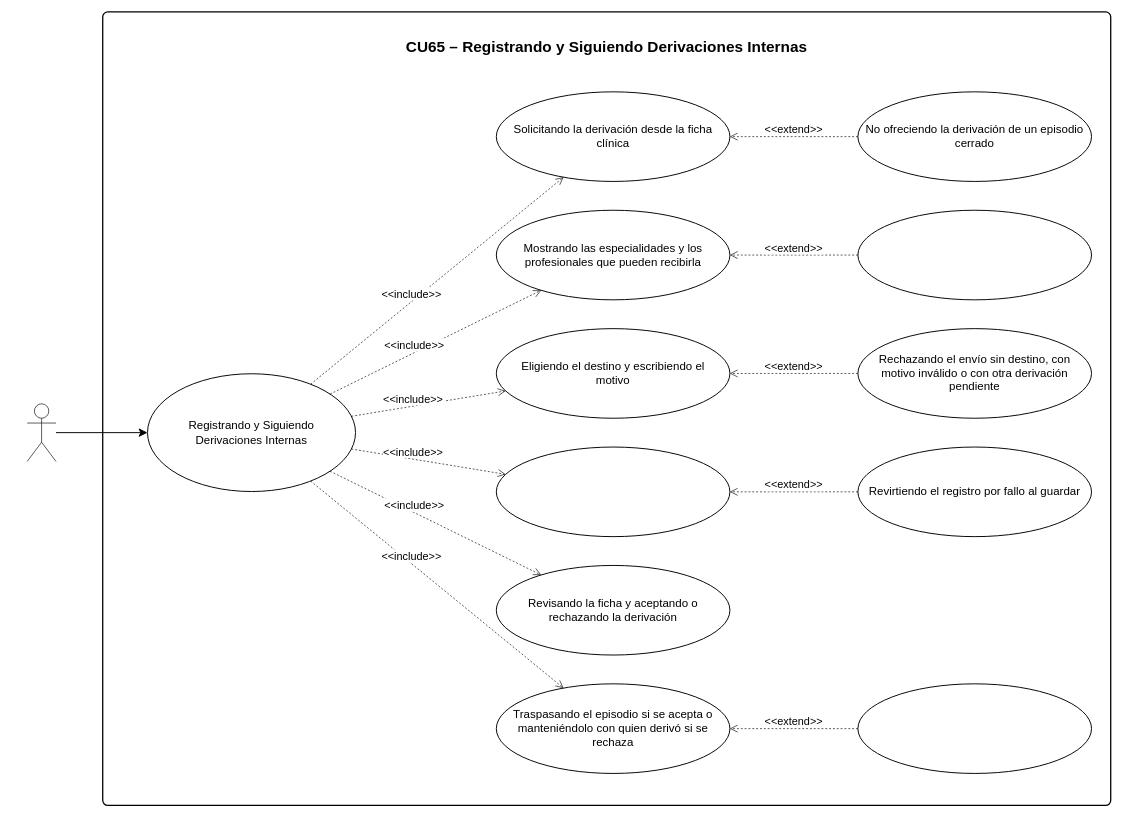
Image size: 1123x817. Some labels were removed from this diagram. The shapes that lost their labels are listed below. From the top down, each one's centre as x and y in pixels, then its label:
point 974,254: Informando especialidad sin profesionales disponibles
point 41,432: Profesional
point 613,491: Registrando la derivación como pendiente y avisando al receptor
point 974,728: Informando derivación que ya cambió de estado sin traspasar nada
